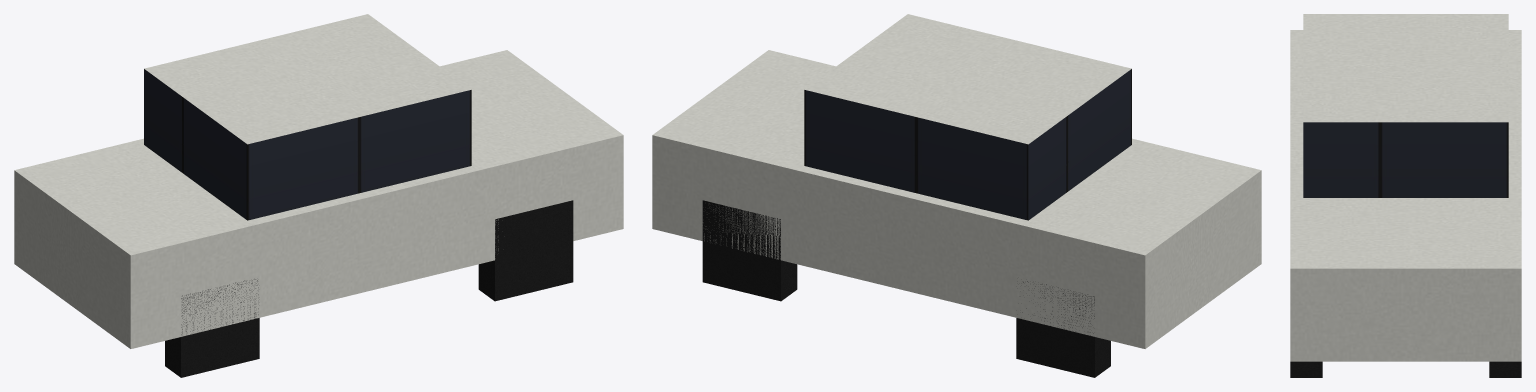
Rendered from car_white.obj.
The picture shows the model from 3 angles, left to right: view 1: azimuth 30°, elevation 25°; view 2: azimuth 150°, elevation 25°; view 3: azimuth 270°, elevation 25°; orthographic projection.
Visible parts, largest first — view 1: Body_Paint_white, Cabin_Glass, Cabin_Paint_white, Wheels_Tire; view 2: Body_Paint_white, Cabin_Glass, Cabin_Paint_white, Wheels_Tire; view 3: Body_Paint_white, Cabin_Paint_white, Cabin_Glass, Wheels_Tire.
Part boxes in pixels (bbox=[...]): Body_Paint_white: bbox=[14, 50, 623, 348]; Cabin_Glass: bbox=[144, 69, 471, 220]; Cabin_Paint_white: bbox=[144, 14, 471, 144]; Wheels_Tire: bbox=[165, 200, 573, 377]; Body_Paint_white: bbox=[652, 50, 1261, 348]; Cabin_Glass: bbox=[804, 69, 1131, 220]; Cabin_Paint_white: bbox=[804, 14, 1131, 144]; Wheels_Tire: bbox=[702, 200, 1110, 377]; Body_Paint_white: bbox=[1290, 30, 1521, 361]; Cabin_Paint_white: bbox=[1303, 14, 1508, 122]; Cabin_Glass: bbox=[1303, 122, 1508, 197]; Wheels_Tire: bbox=[1290, 361, 1521, 377].
Size of the model in its own units: 4.4 by 1.8 by 1.8.
3 materials, 3 textured.
